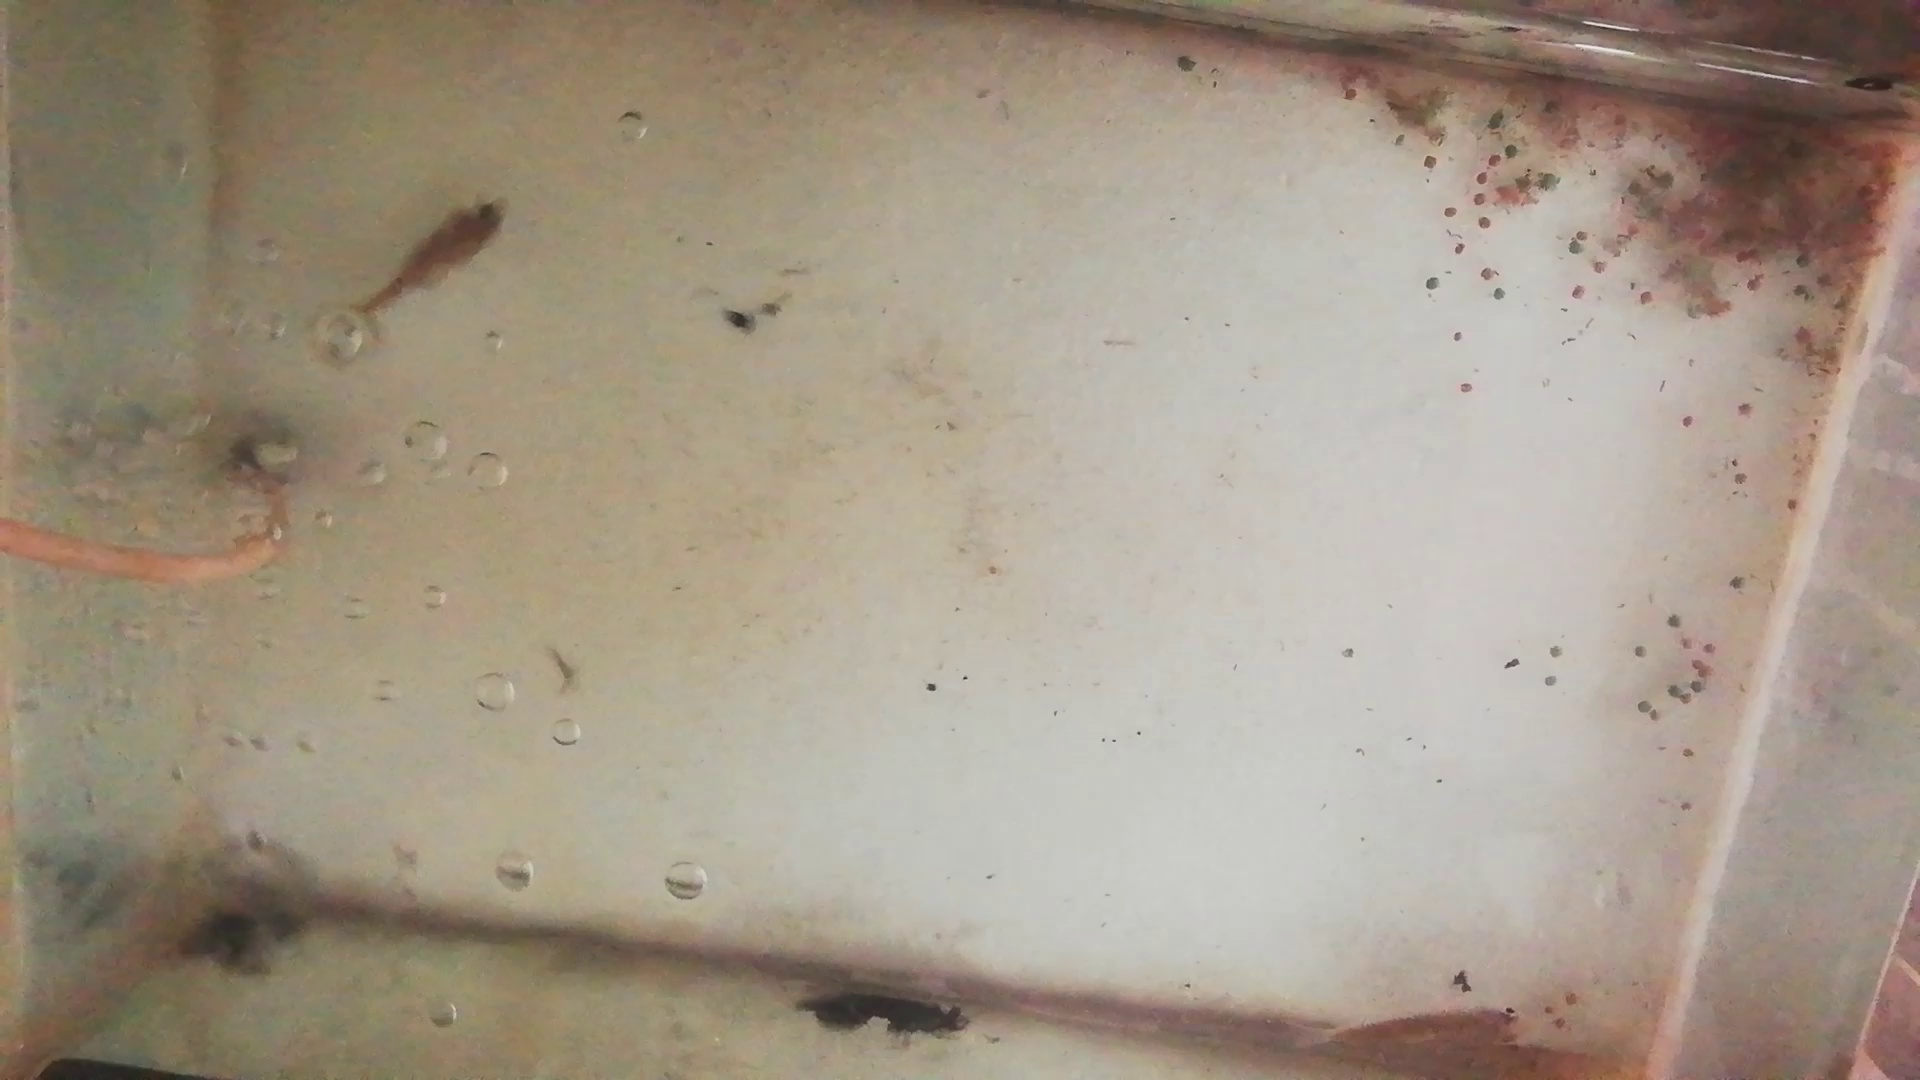fish: (349, 194, 512, 316), (1336, 1006, 1530, 1060)
